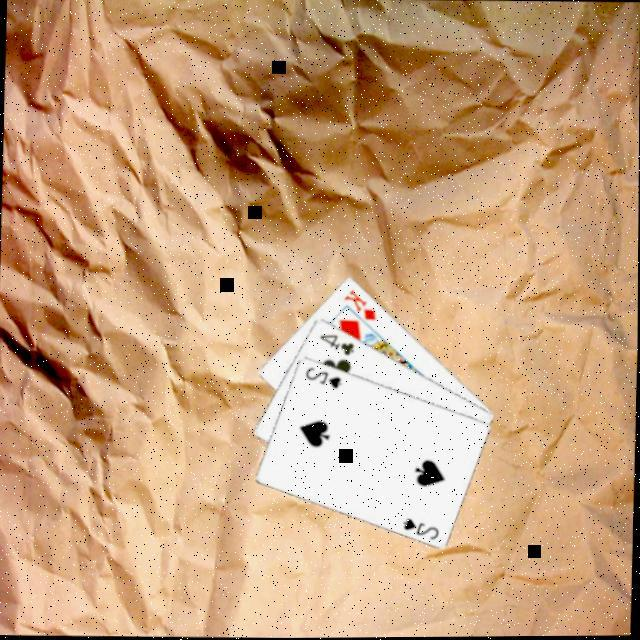2S: (301, 364, 343, 392), (398, 515, 440, 543)
4C: (314, 332, 356, 359)
KD: (337, 286, 378, 324)
